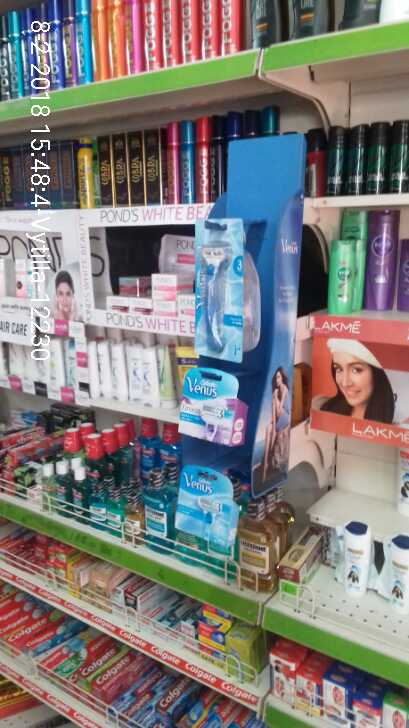venus: (192, 223, 248, 365), (174, 461, 246, 556), (174, 365, 241, 450)
